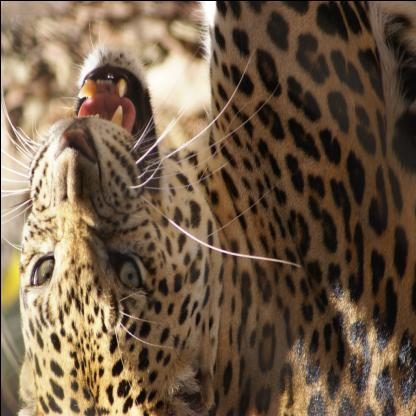leopard: (5, 55, 202, 415)
